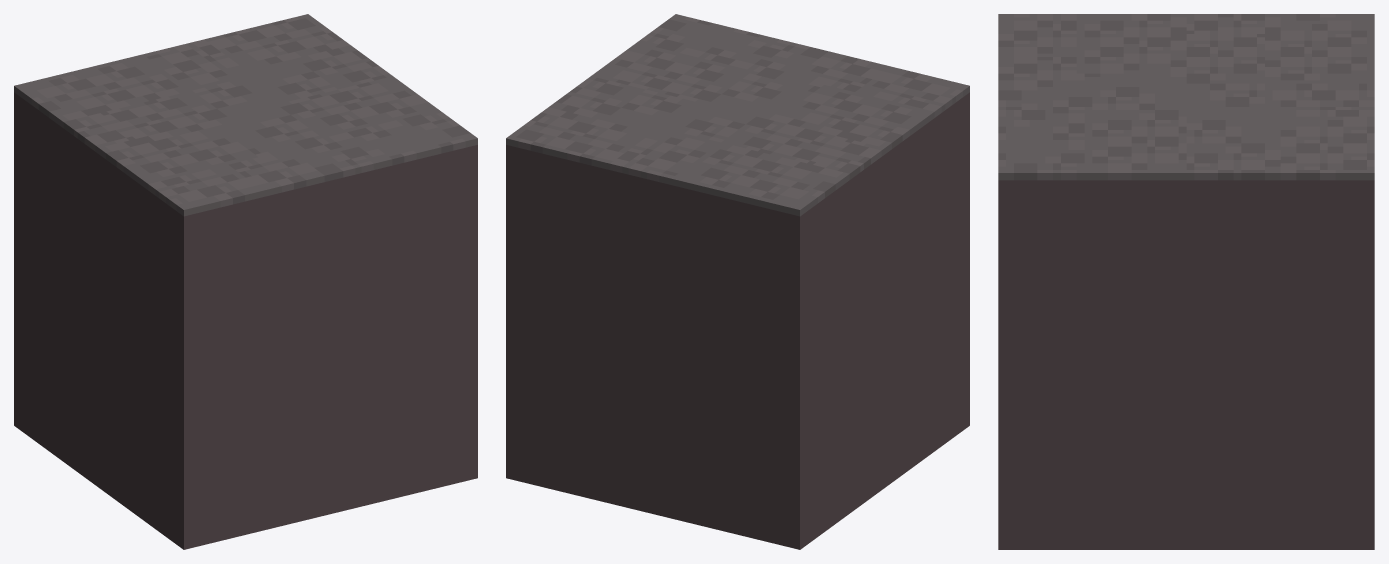
Rendered from tall-ridge-ground.obj.
3 views of the same model, side by side, from view 1: azimuth 30°, elevation 25°; view 2: azimuth 150°, elevation 25°; view 3: azimuth 270°, elevation 25° (orthographic). The views are drawn at different scales.
Size of the model in its own units: 4.8 by 5.3 by 4.8.
Materials: 1 (1 with a texture image).
